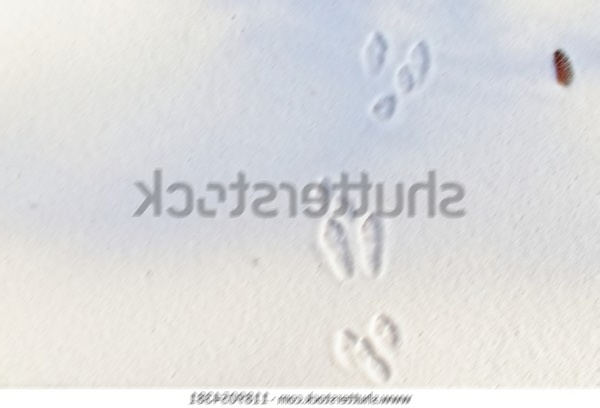rabbit: (340, 30, 446, 141)
